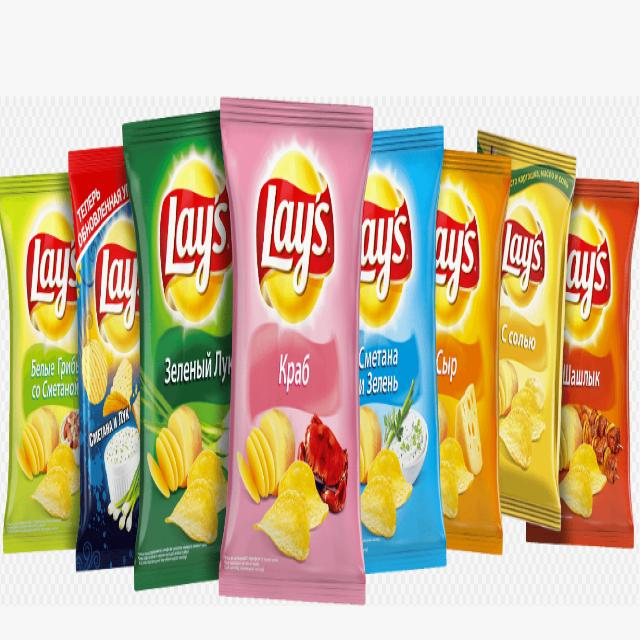supermarket-product: (240, 155, 346, 322)
